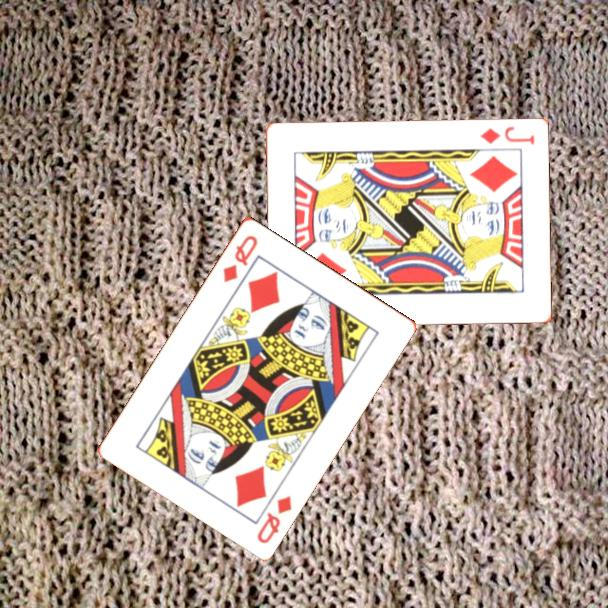d11: (476, 124, 537, 148)
d12: (253, 491, 295, 546), (219, 231, 261, 285)
